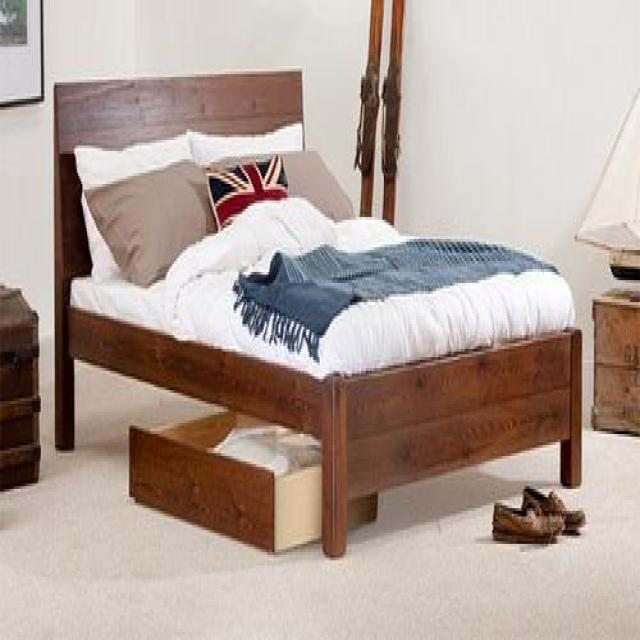bed: (51, 67, 582, 560)
